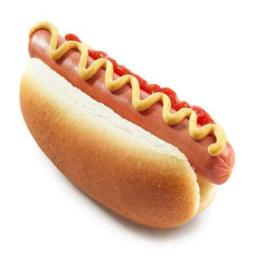hotdog: (0, 0, 245, 245)
